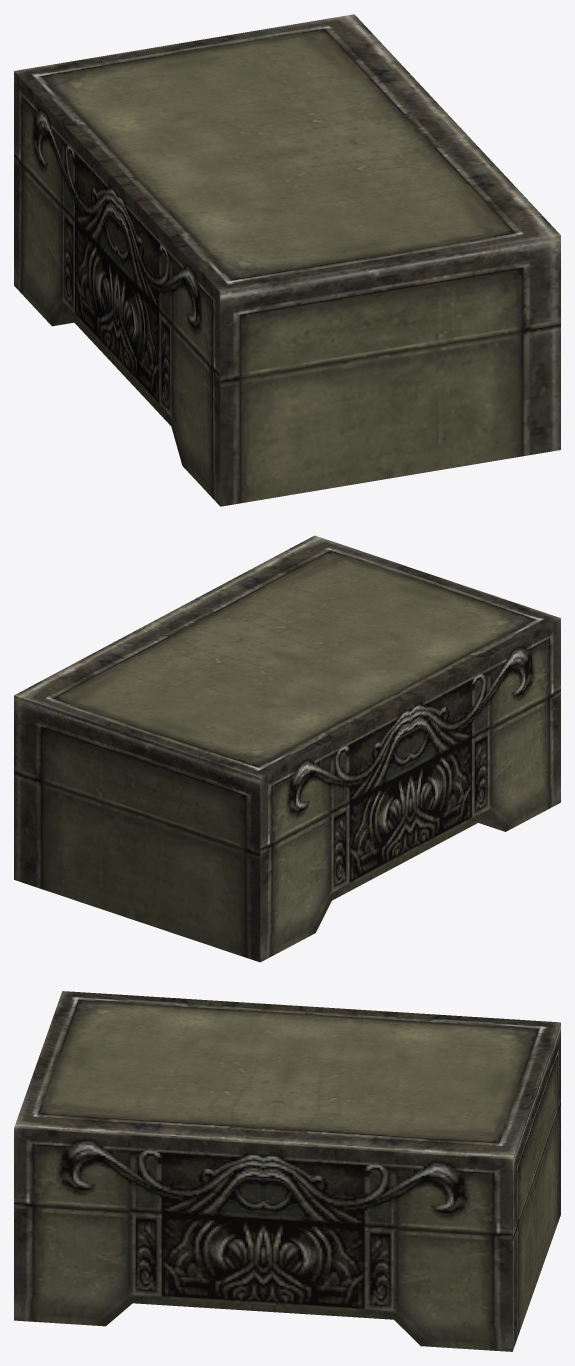
The model's file is 4005__Item_xiangzi_3.FBX.
3 renders of one model, top to bottom at view 1: azimuth 30°, elevation 25°; view 2: azimuth 150°, elevation 25°; view 3: azimuth 270°, elevation 25°, orthographic. The views are drawn at different scales.
Visible parts, largest first — view 1: 4005__Item_xiangzi_3; view 2: 4005__Item_xiangzi_3; view 3: 4005__Item_xiangzi_3.
Boxes of the visible parts, left/top/right/bottom form: 4005__Item_xiangzi_3: left=14, top=14, right=560, bottom=506; 4005__Item_xiangzi_3: left=14, top=535, right=560, bottom=962; 4005__Item_xiangzi_3: left=14, top=991, right=560, bottom=1351.
Bounding box in the file's own units: 118 × 62.73 × 162.
